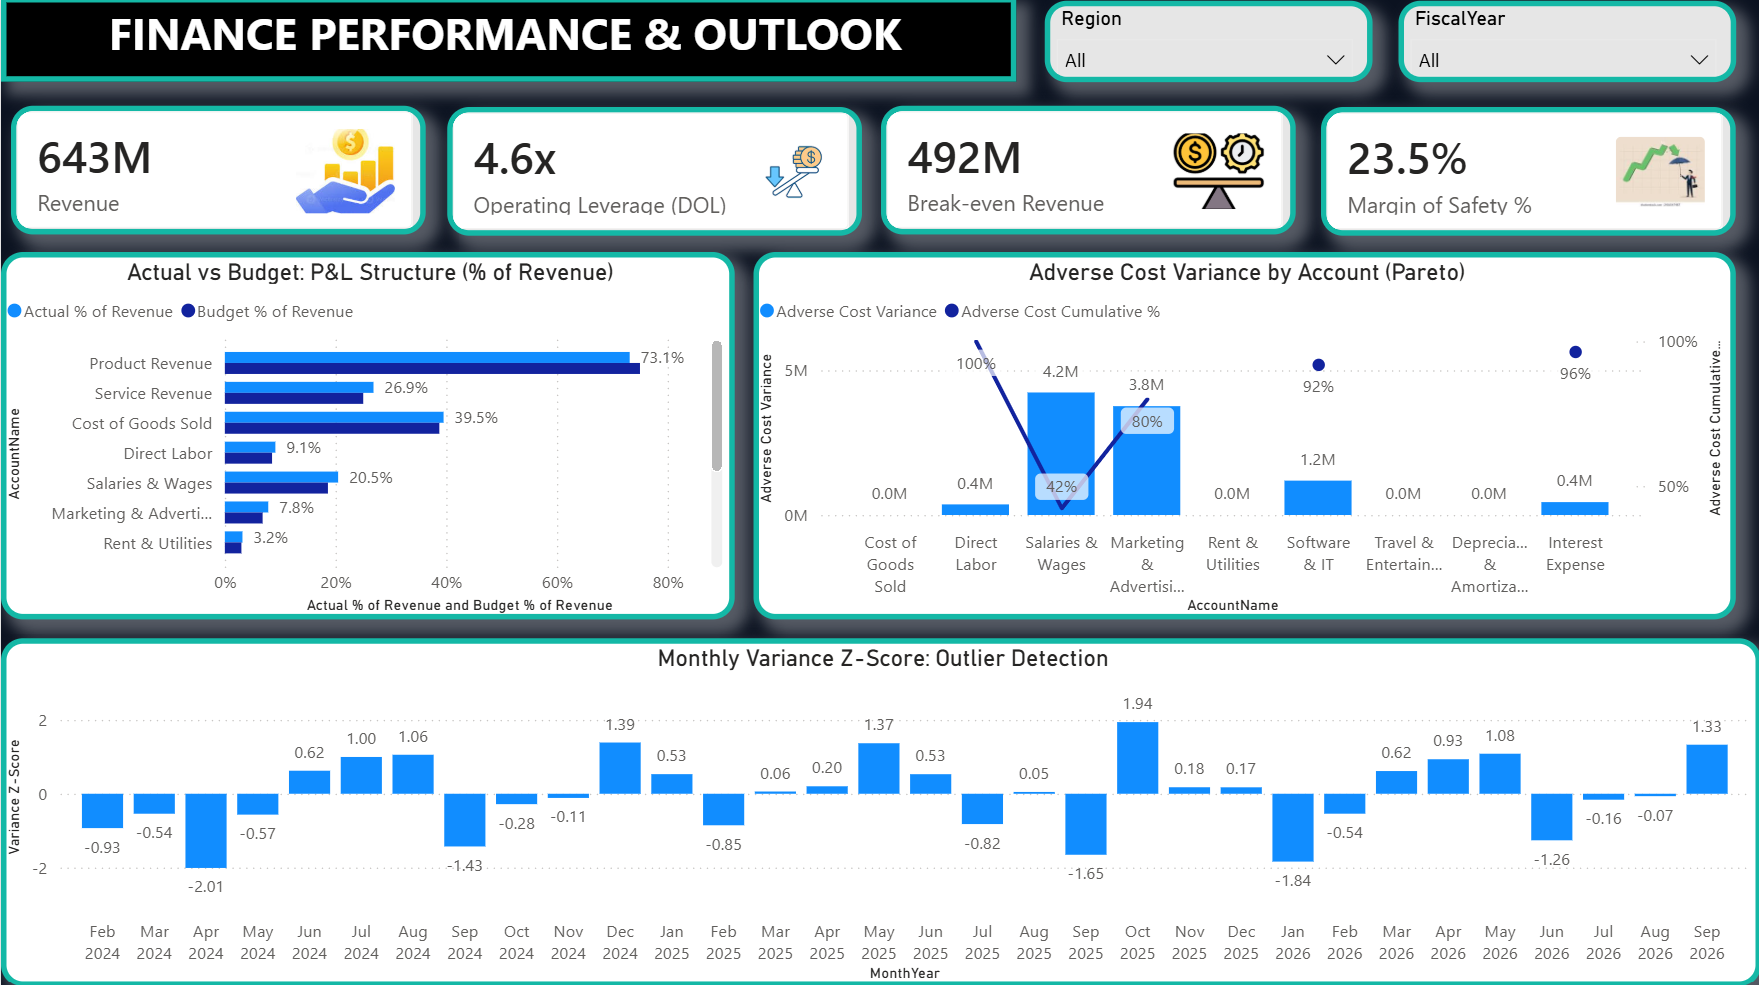

What the dashboard file says about the page in this screenshot:
{"tool":"powerbi","page":{"name":"Profitability and Cost Control","canvas":[1280,720],"ordinal":2},"visuals":[{"type":"textbox","box":[0,0,738.2,61.8],"z":0},{"type":"slicer","fields":{"Values":["DimDate.FiscalYear"]},"box":[1016.4,2.7,245.5,59.1],"z":1000},{"type":"slicer","fields":{"Values":["DimRegion.Region"]},"box":[759.1,2.7,238.2,59.1],"z":2000},{"type":"cardVisual","fields":{"Data":["_Measures.Revenue"]},"box":[7.3,79.1,301.8,93.6],"z":3000},{"type":"cardVisual","fields":{"Data":["_Measures.Operating Leverage (DOL)"]},"box":[324.5,80,301.8,93.6],"z":4000},{"type":"cardVisual","fields":{"Data":["_Measures.Break-even Revenue"]},"box":[640,79.1,301.8,93.6],"z":5000},{"type":"cardVisual","fields":{"Data":["_Measures.Margin of Safety %"]},"box":[960,80,301.8,93.6],"z":6000},{"type":"clusteredBarChart","title":"Actual vs Budget: P&L Structure (% of Revenue)","fields":{"Y":["_Measures.Actual % of Revenue","_Measures.Budget % of Revenue"],"Category":["DimAccount.AccountName"]},"box":[0,185.5,533.6,267.3],"z":7000},{"type":"lineClusteredColumnComboChart","title":"Adverse Cost Variance by Account (Pareto)","fields":{"Y":["_Measures.Adverse Cost Variance"],"Y2":["_Measures.Adverse Cost Cumulative %"],"Category":["DimAccount.AccountName"]},"box":[547.3,185.5,714.5,267.3],"z":8000},{"type":"clusteredColumnChart","title":"Monthly Variance Z-Score: Outlier Detection","fields":{"Category":["DimDate.MonthYear"],"Y":["_Measures.Variance Z-Score"]},"box":[0,466.4,1280,253.6],"z":9000}]}

Visuals, with their boxes in screenshot pixels (x1, y1, x2, y2), scaled from the page's 1280x720 canvas onto the 1759x985 screenshot:
textbox: BBox(0, 0, 1014, 85)
slicer - DimDate.FiscalYear: BBox(1397, 4, 1734, 85)
slicer - DimRegion.Region: BBox(1043, 4, 1371, 85)
cardVisual - _Measures.Revenue: BBox(10, 108, 425, 236)
cardVisual - _Measures.Operating Leverage (DOL): BBox(446, 109, 861, 237)
cardVisual - _Measures.Break-even Revenue: BBox(880, 108, 1294, 236)
cardVisual - _Measures.Margin of Safety %: BBox(1319, 109, 1734, 237)
"Actual vs Budget: P&L Structure (% of Revenue)" clusteredBarChart: BBox(0, 254, 733, 619)
"Adverse Cost Variance by Account (Pareto)" lineClusteredColumnComboChart: BBox(752, 254, 1734, 619)
"Monthly Variance Z-Score: Outlier Detection" clusteredColumnChart: BBox(0, 638, 1758, 984)
